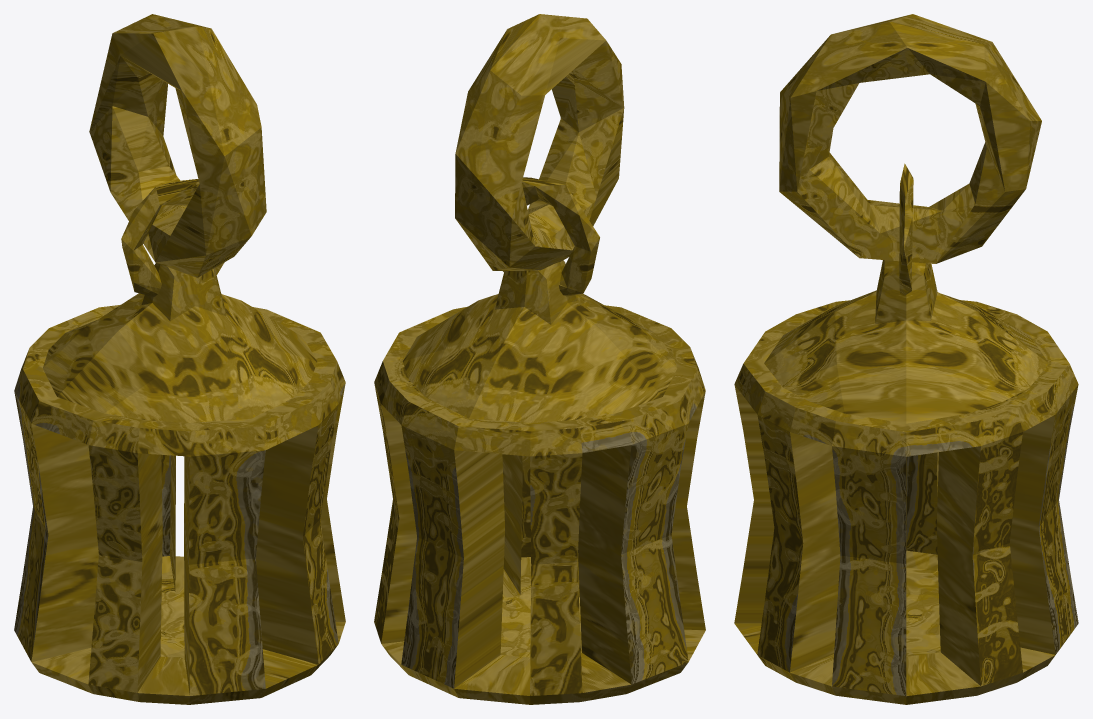
Rendered from cagelantern3.fbx.
3 views of the same model, side by side, from view 1: azimuth 30°, elevation 25°; view 2: azimuth 150°, elevation 25°; view 3: azimuth 270°, elevation 25° (orthographic).
Visible parts, largest first — view 1: Torus.001; view 2: Torus.001; view 3: Torus.001.
Boxes of the visible parts, bbox=[...] form: Torus.001: bbox=[14, 14, 345, 704]; Torus.001: bbox=[374, 14, 705, 704]; Torus.001: bbox=[734, 14, 1078, 704].
Size of the model in its own units: 229 by 463 by 229.
